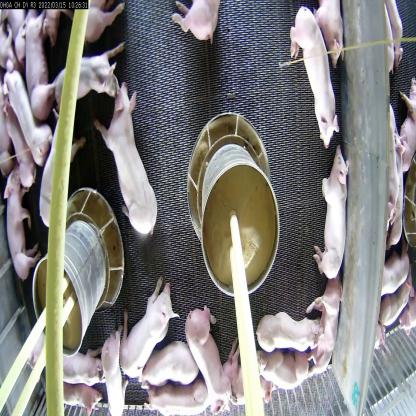Pig: (104, 94, 168, 242), (290, 0, 344, 160), (301, 141, 349, 282), (4, 61, 54, 166), (118, 278, 168, 370), (60, 47, 124, 117), (187, 297, 230, 393), (0, 168, 34, 286), (302, 274, 340, 375), (256, 310, 326, 363), (145, 360, 211, 415), (18, 6, 50, 116), (219, 346, 269, 415), (256, 342, 304, 413), (147, 342, 196, 391), (104, 326, 126, 409)
